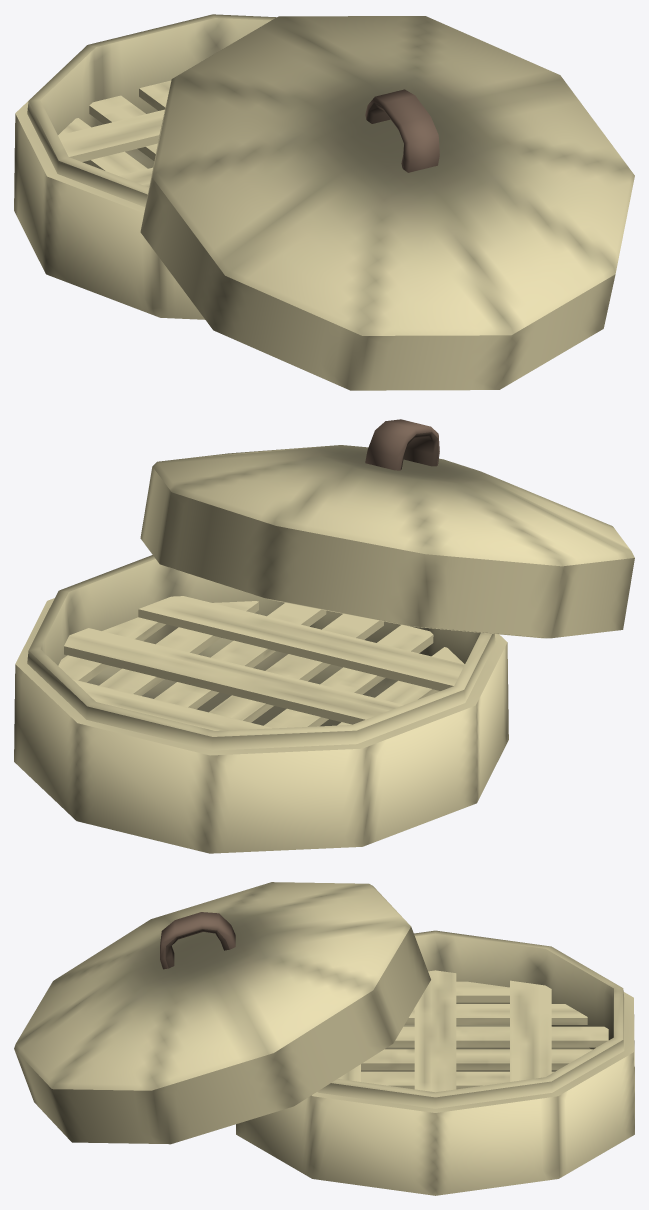
The model's file is steamer.glb.
3 views of the same model, one above another, from view 1: azimuth 30°, elevation 25°; view 2: azimuth 150°, elevation 25°; view 3: azimuth 270°, elevation 25° (orthographic). The views are drawn at different scales.
Parts seen in each view (by area): view 1: food_steamer; view 2: food_steamer; view 3: food_steamer.
Part boxes in pixels (bbox=[...]): food_steamer: bbox=[14, 14, 634, 390]; food_steamer: bbox=[14, 419, 634, 853]; food_steamer: bbox=[14, 882, 634, 1195].
Bounding box in the file's own units: 0.0176 × 0.00888 × 0.0261.
1 material, 1 textured.
